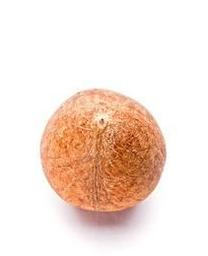coconut: (38, 86, 169, 214)
